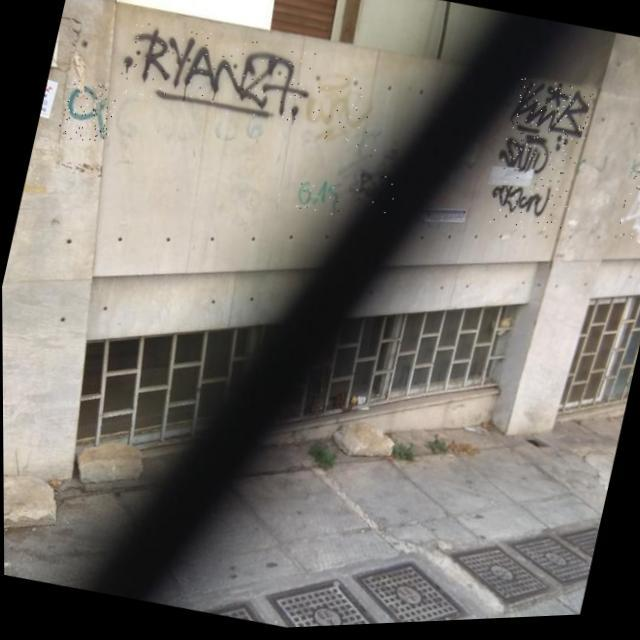-: (115, 13, 316, 136), (485, 75, 596, 244), (299, 70, 377, 155), (345, 144, 407, 220), (55, 76, 118, 148), (292, 175, 344, 221), (614, 182, 640, 254), (625, 158, 640, 195)
